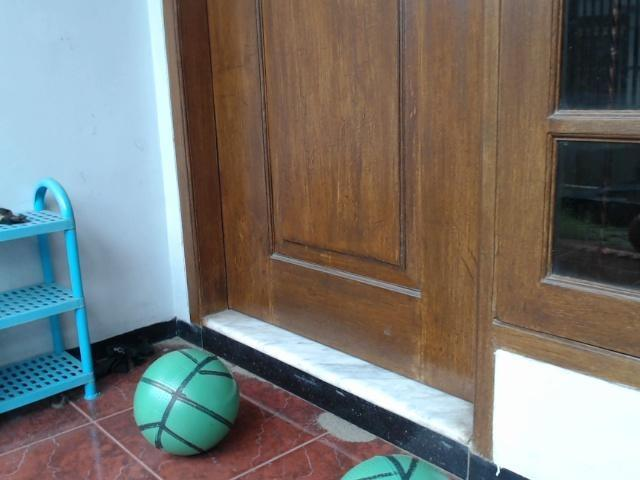Sports-Ball: (134, 345, 247, 457)
